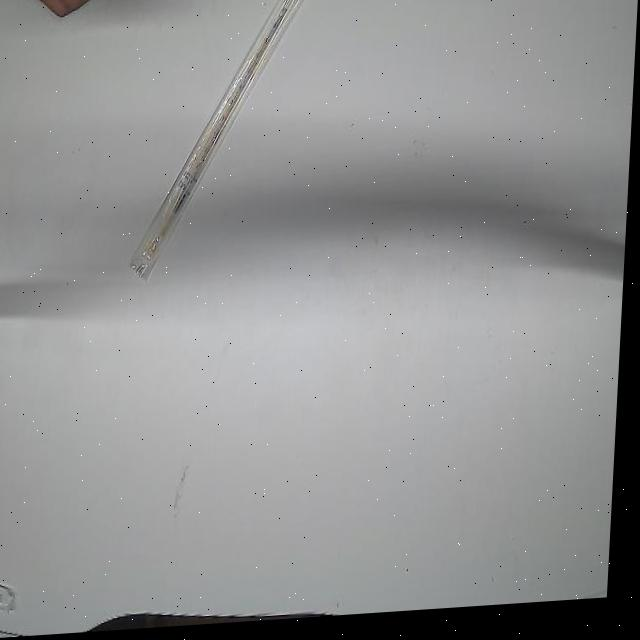Serelogical Pipet 1 mL: (123, 0, 334, 289)
